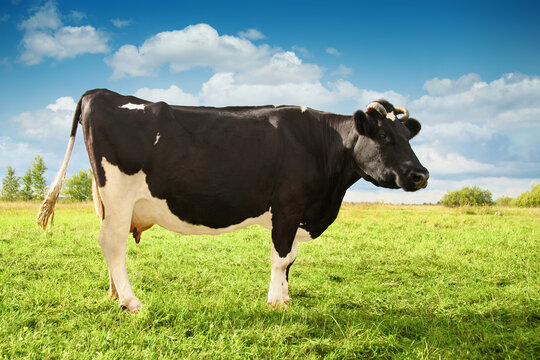MilkCow: (33, 84, 432, 313)
